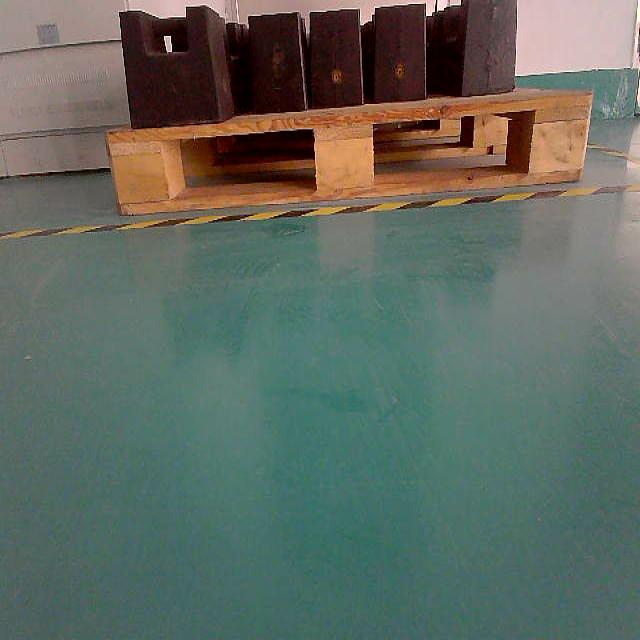euro: (108, 88, 593, 216)
